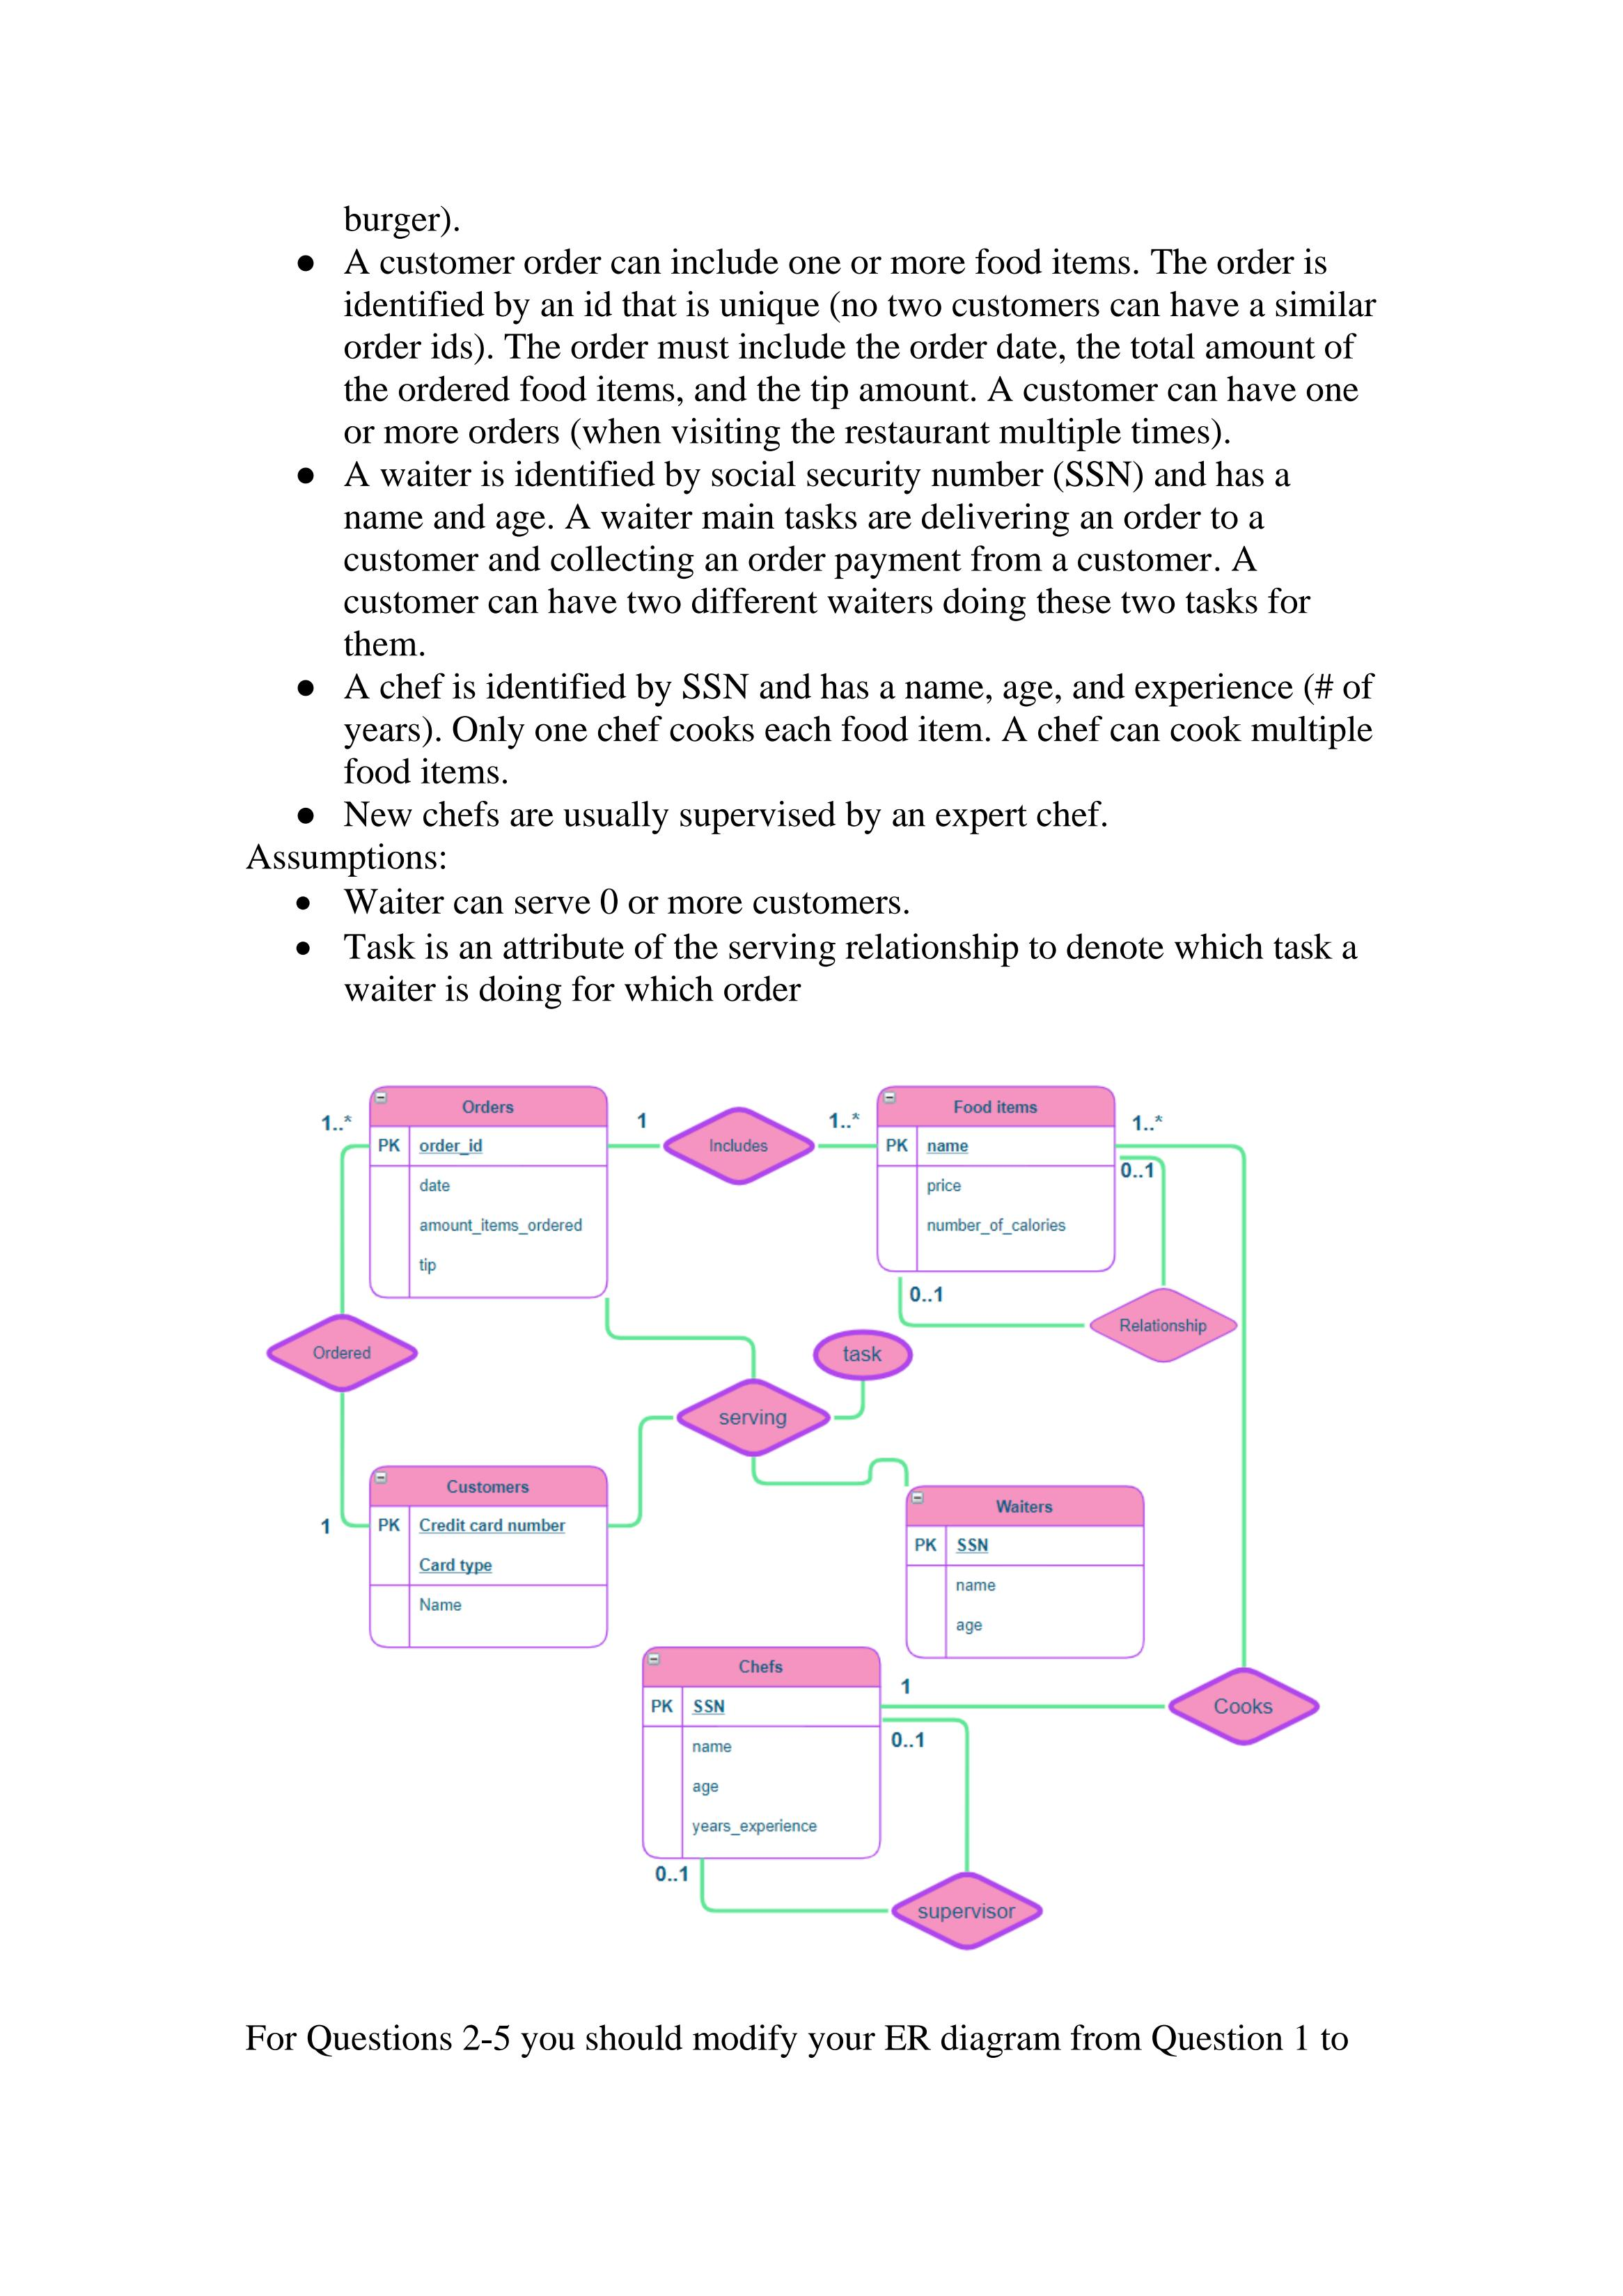Attribute: (813, 1328, 913, 1381)
Entity: (641, 1644, 882, 1859), (369, 1086, 608, 1300), (876, 1084, 1117, 1274), (369, 1463, 610, 1651), (905, 1483, 1143, 1660)
Relationship: (676, 1377, 831, 1456), (662, 1107, 815, 1186), (1168, 1667, 1321, 1746), (267, 1314, 420, 1393), (891, 1873, 1043, 1950), (1089, 1288, 1238, 1363)
